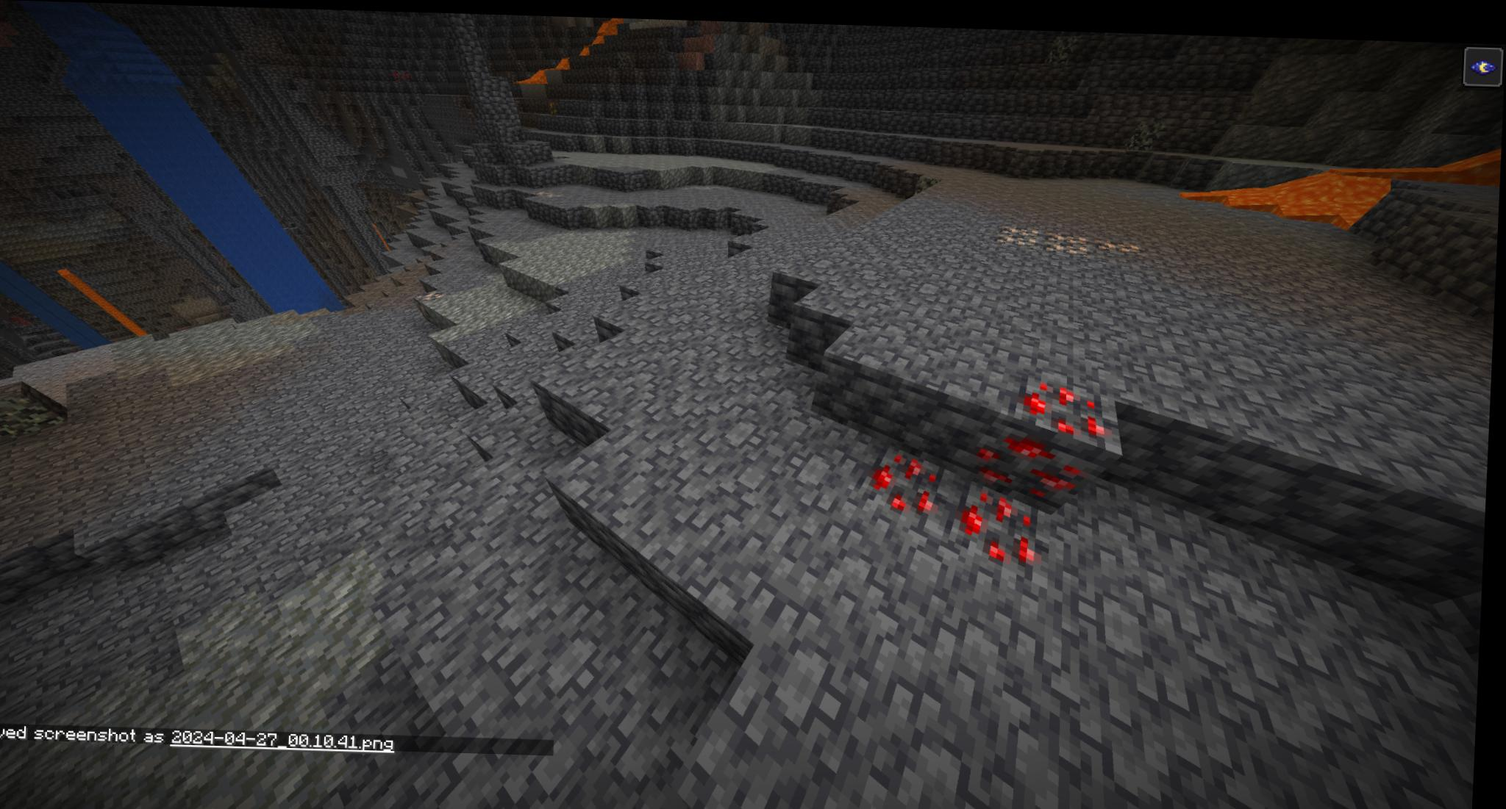iron ore: (998, 218, 1151, 258)
redstone ore: (982, 425, 1094, 492), (955, 480, 1043, 563), (1017, 372, 1120, 435), (869, 450, 951, 519)
